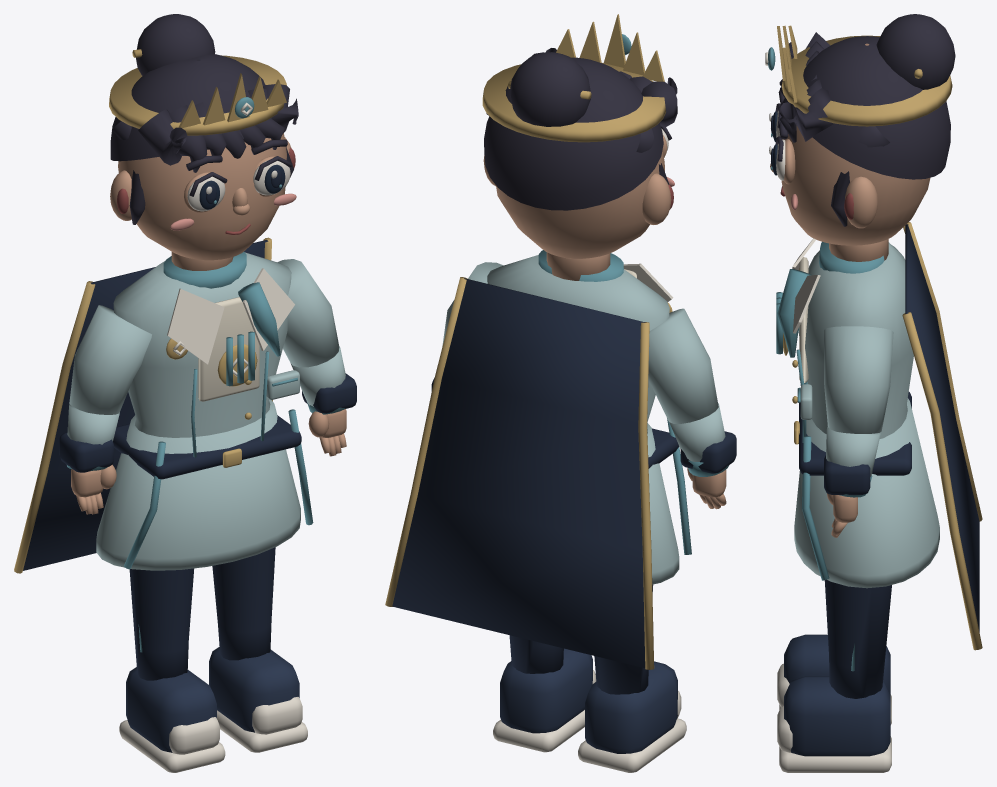
File: npc_mistlake_boss.glb
3 views of the same model, side by side, from view 1: azimuth 30°, elevation 25°; view 2: azimuth 150°, elevation 25°; view 3: azimuth 270°, elevation 25° (orthographic). The views are drawn at different scales.
Visible parts, largest first — view 1: figure.051; view 2: figure.051; view 3: figure.051.
Part boxes in pixels (left/top/right/bottom): figure.051: left=14, top=14, right=356, bottom=772; figure.051: left=385, top=14, right=736, bottom=772; figure.051: left=765, top=14, right=982, bottom=772.
Bounding box in the file's own units: 0.7792 × 1.84 × 0.5011.
